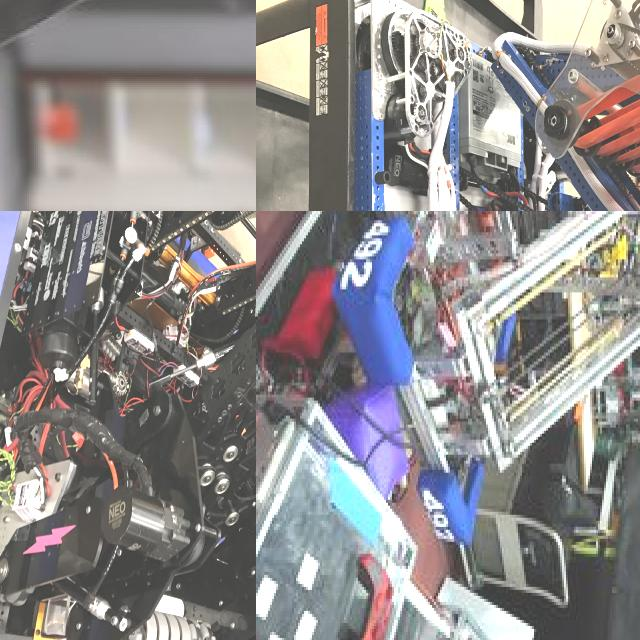FRC-Robots: (0, 211, 256, 640), (344, 211, 640, 549), (344, 0, 640, 211), (0, 0, 256, 209)
